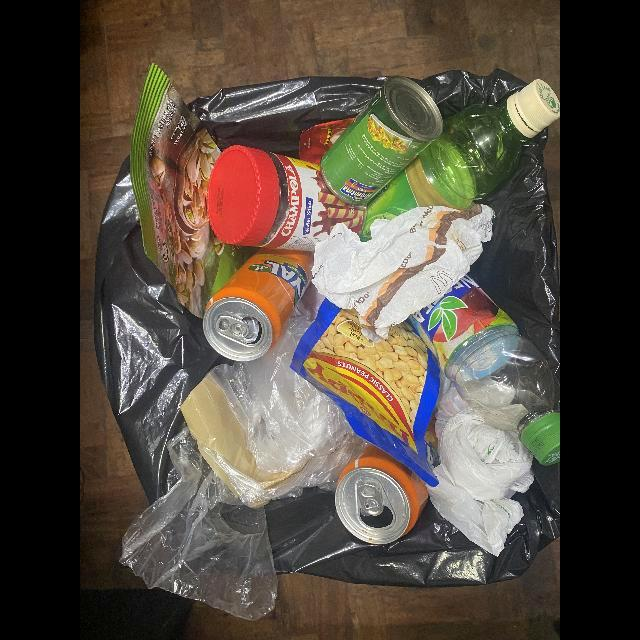aluminum: (317, 74, 444, 207), (202, 250, 313, 362), (336, 444, 429, 545)
food_wrapper: (130, 60, 257, 315), (288, 299, 442, 490)
paper: (312, 203, 493, 325)
plastic_bag: (122, 312, 372, 621), (428, 375, 536, 557)
plastic_bottle: (361, 77, 560, 245), (410, 275, 560, 467)
plastic_container: (205, 145, 366, 251)
